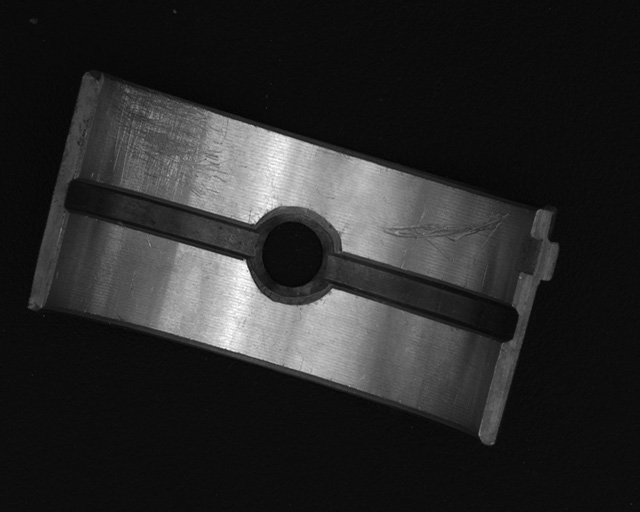gap: (326, 250, 518, 342), (63, 179, 261, 255)
hole: (251, 210, 337, 301)
nick: (379, 208, 513, 262)
scratch: (103, 79, 227, 201)
